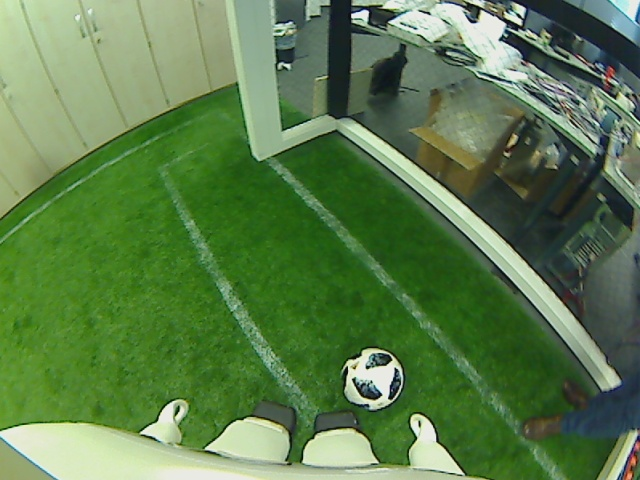ball: (341, 345, 405, 410)
